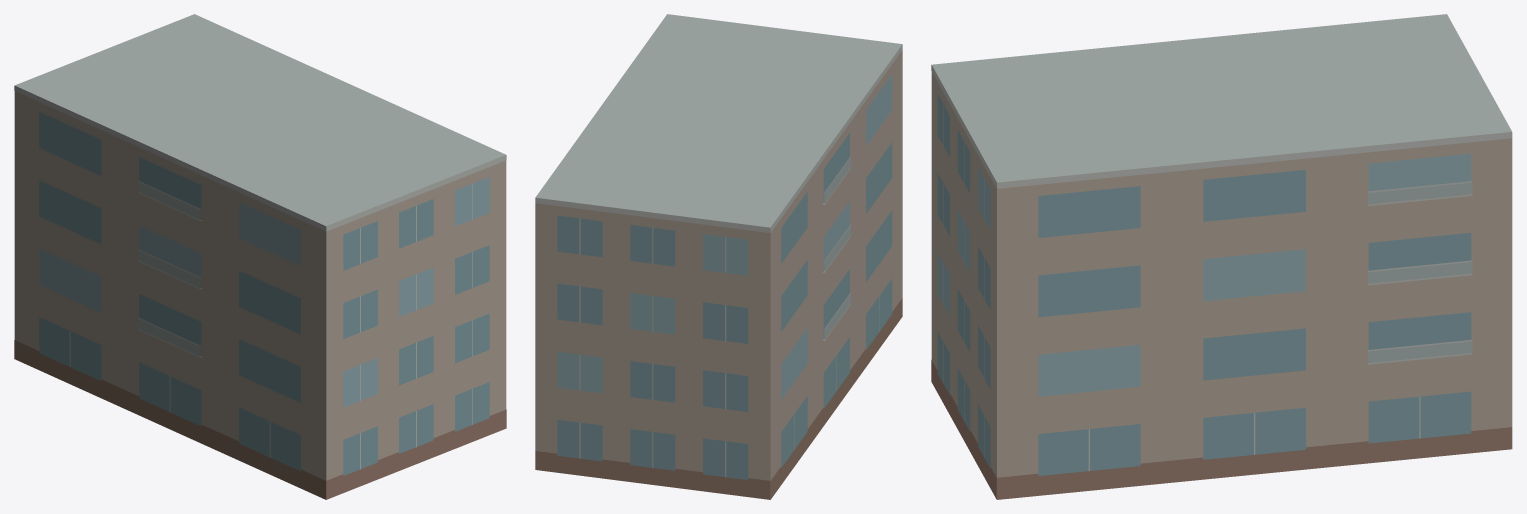
Rendered from survey-upis-32806579.glb.
The picture shows the model from 3 angles, left to right: view 1: azimuth 30°, elevation 25°; view 2: azimuth 150°, elevation 25°; view 3: azimuth 270°, elevation 25°; orthographic projection. The views are drawn at different scales.
Parts seen in each view (by area): view 1: survey-upis-32806579.tmp; view 2: survey-upis-32806579.tmp; view 3: survey-upis-32806579.tmp.
Part boxes in pixels (x1,y1,x2,y2): survey-upis-32806579.tmp: [14, 14, 506, 499]; survey-upis-32806579.tmp: [535, 14, 902, 499]; survey-upis-32806579.tmp: [931, 14, 1512, 499].
Size of the model in its own units: 13.91 by 12.2 by 20.25.
